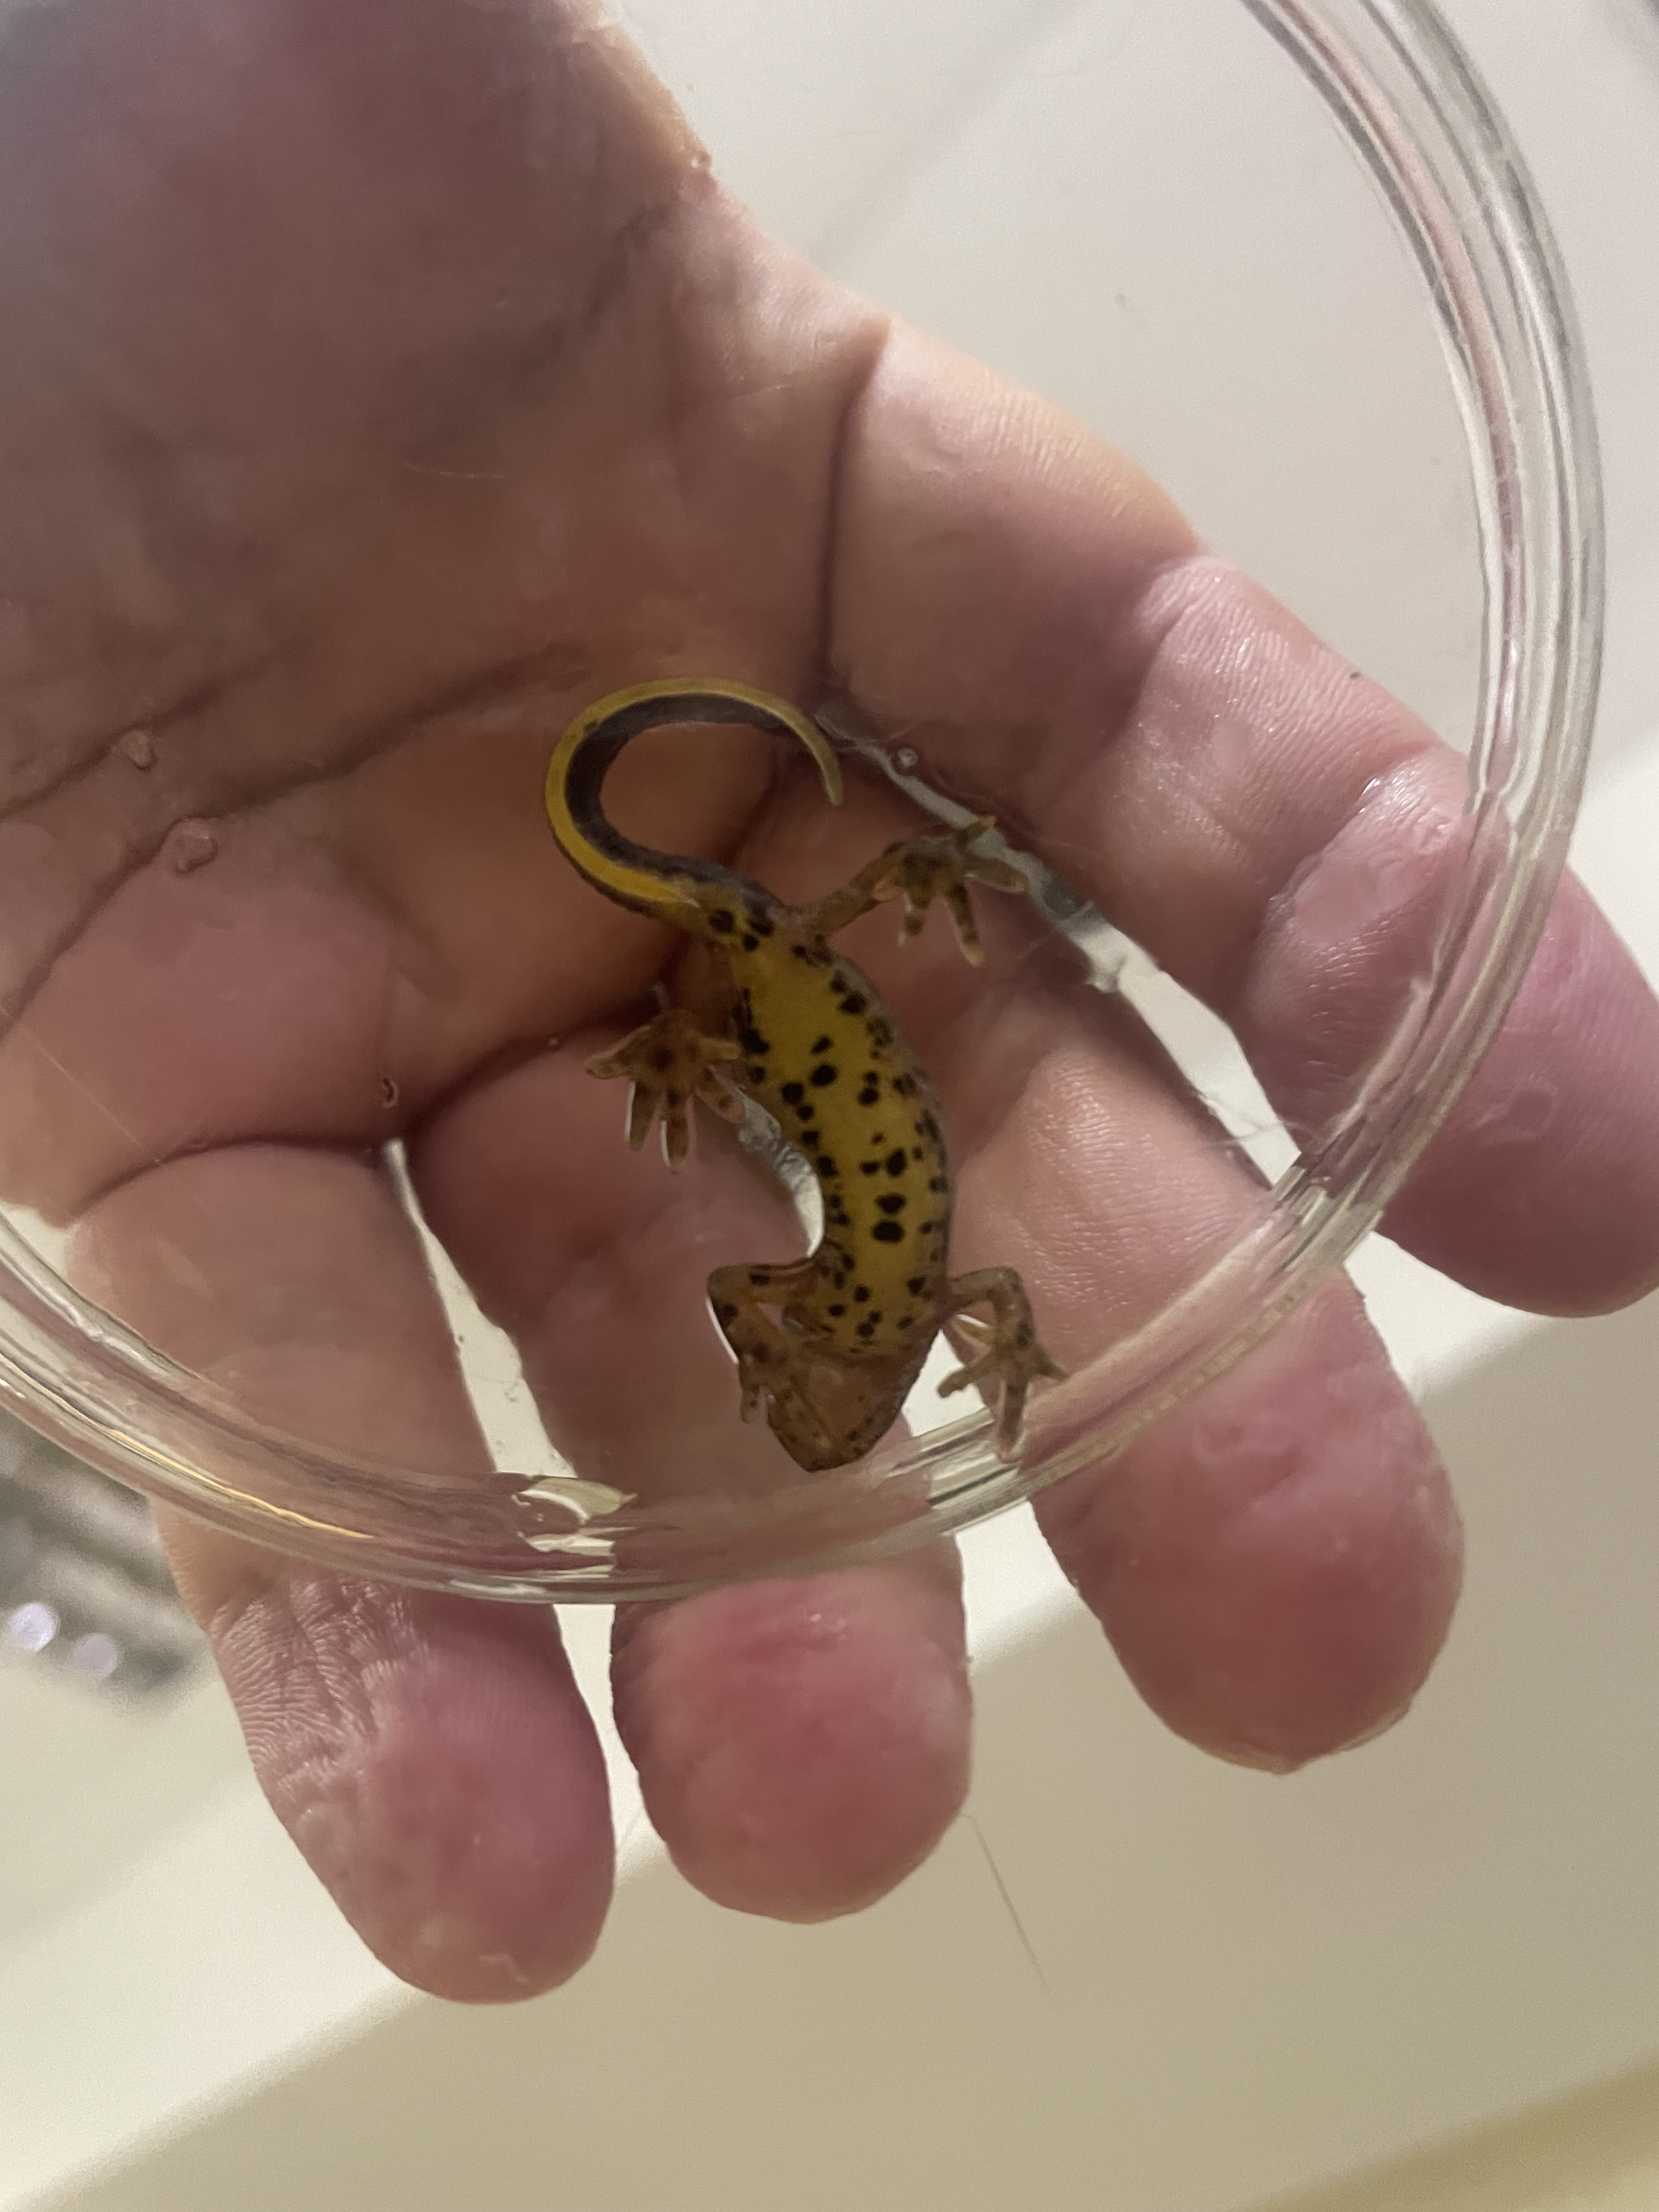Karelin_newt: (728, 946, 957, 1277)
